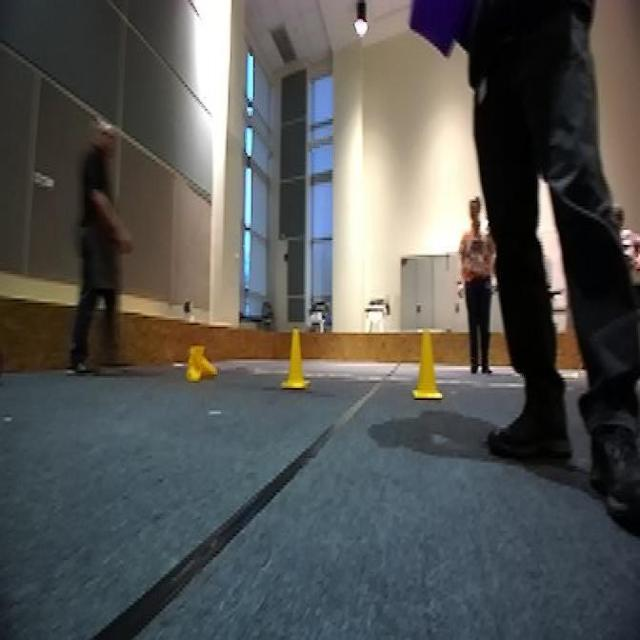frc_cone: (406, 328, 450, 398), (279, 328, 311, 386), (185, 346, 215, 381)
frc_cube: (408, 2, 472, 58)
